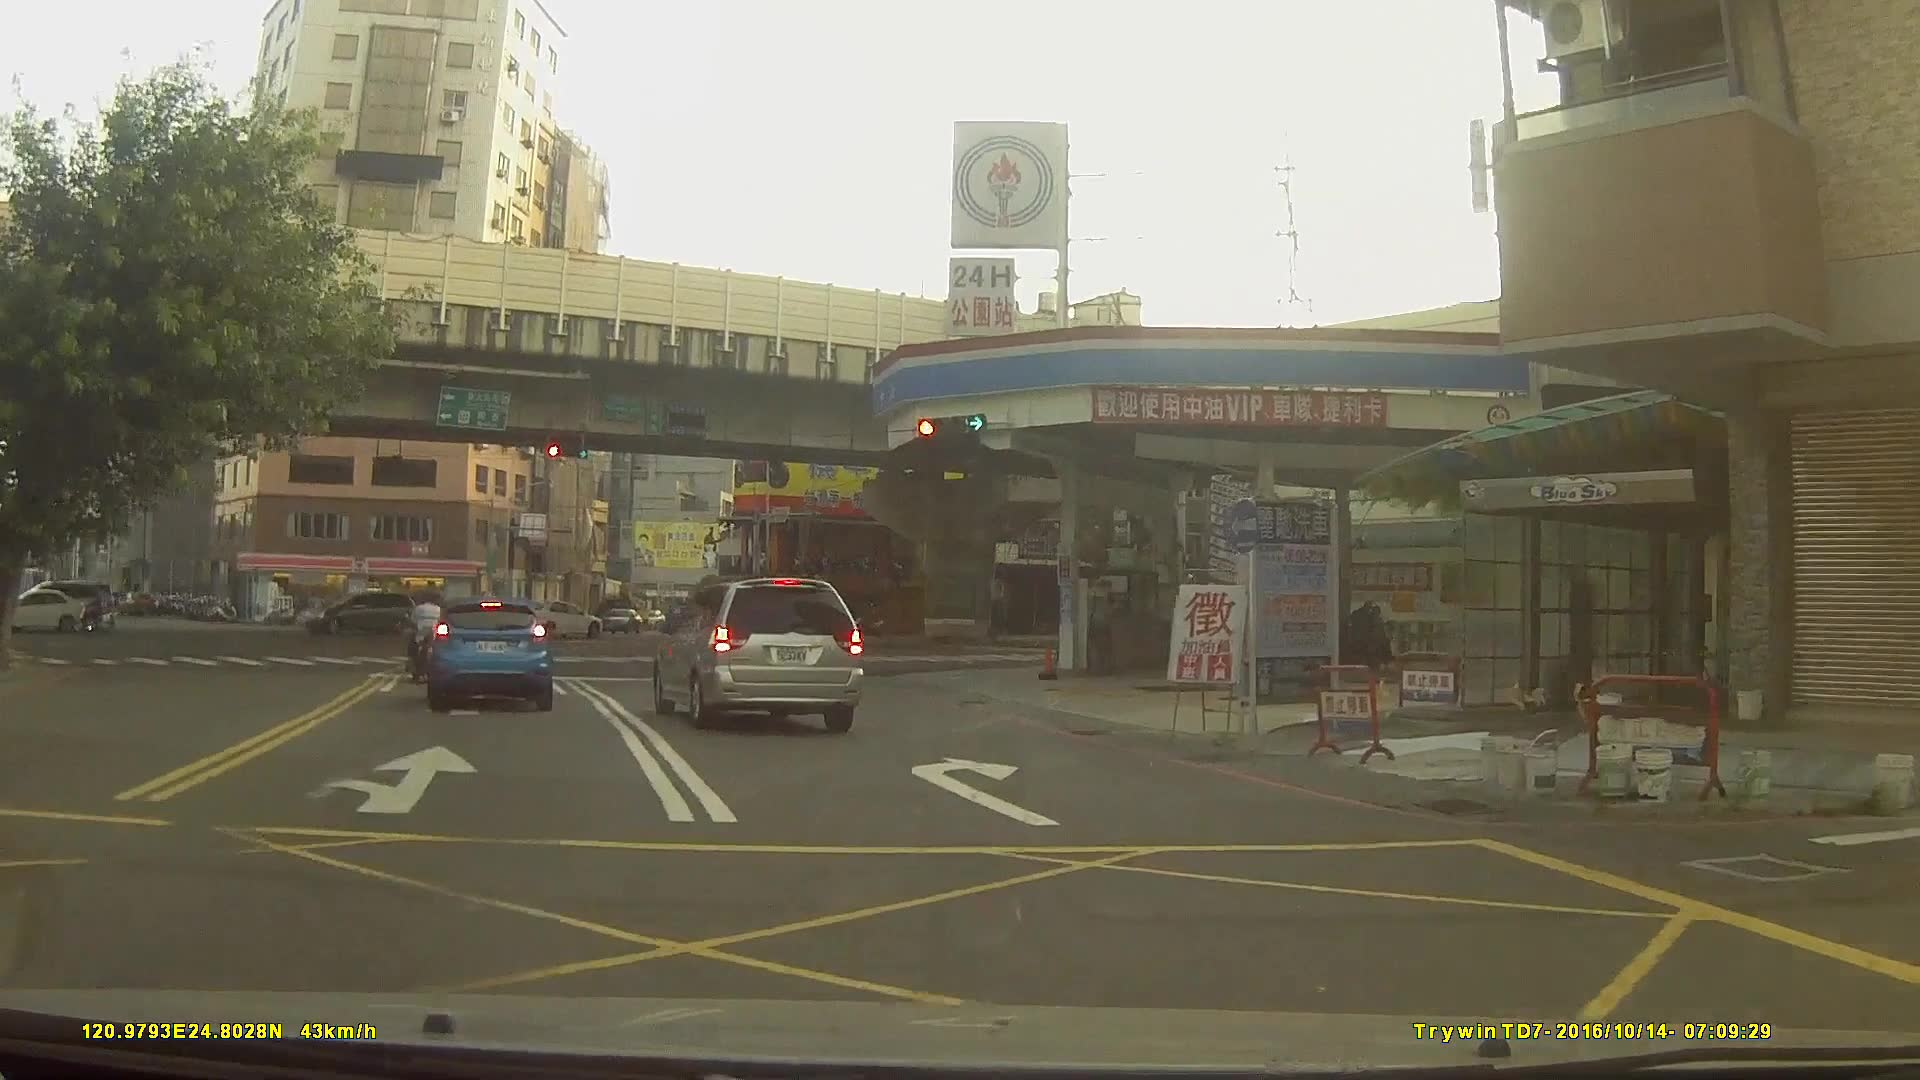rider: (408, 594, 447, 676), (75, 604, 102, 633)
vehicle: (654, 575, 864, 733), (420, 596, 553, 712), (300, 593, 417, 641), (0, 588, 89, 634), (516, 597, 603, 639)
